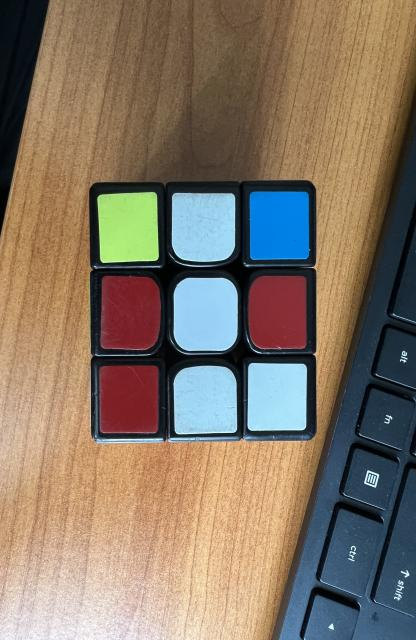Blue: (249, 191, 309, 260)
Red: (101, 276, 161, 350), (248, 275, 307, 349), (100, 365, 158, 434)
White: (173, 278, 238, 351), (171, 192, 235, 262), (173, 365, 237, 435), (247, 362, 307, 431)
Yellow: (98, 192, 159, 262)
